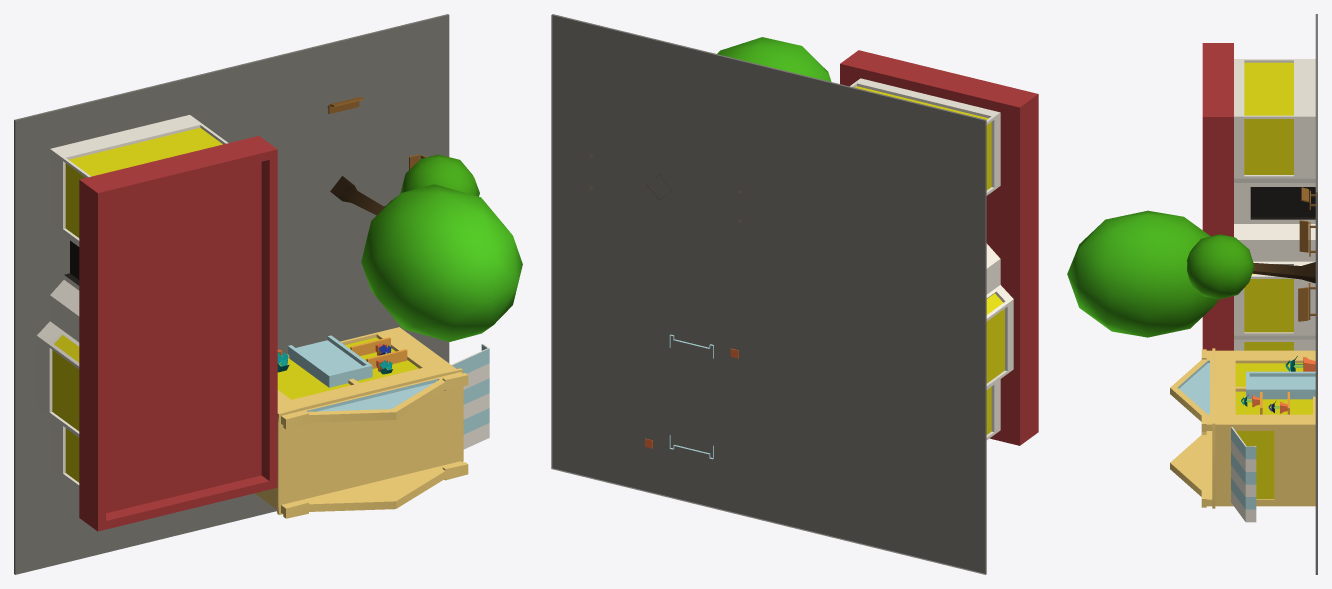
Rendered from FloristAndBakery_02.fbx.
3 views of the same model, side by side, from view 1: azimuth 30°, elevation 25°; view 2: azimuth 150°, elevation 25°; view 3: azimuth 270°, elevation 25° (orthographic). The views are drawn at different scales.
Visible parts, largest first — view 1: FloristAndBakery_02; view 2: FloristAndBakery_02; view 3: FloristAndBakery_02.
Boxes of the visible parts, x1,y1,x2,y2 form: FloristAndBakery_02: (14,14,522,574); FloristAndBakery_02: (551,14,1038,574); FloristAndBakery_02: (1067,14,1317,574).
Bounding box in the file's own units: 200 × 200 × 119.
